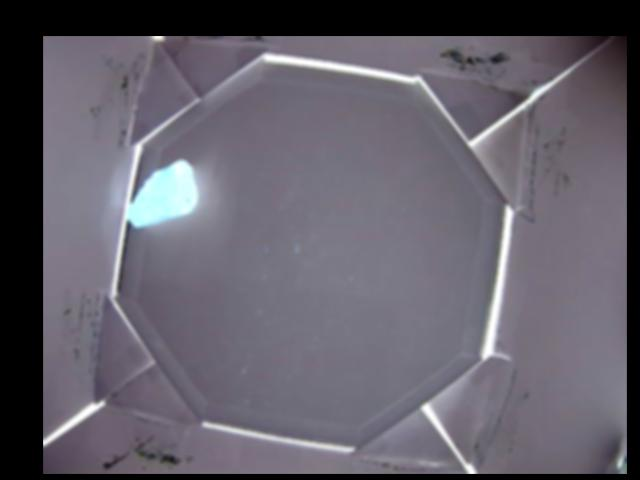Brisk: (122, 158, 199, 228)
